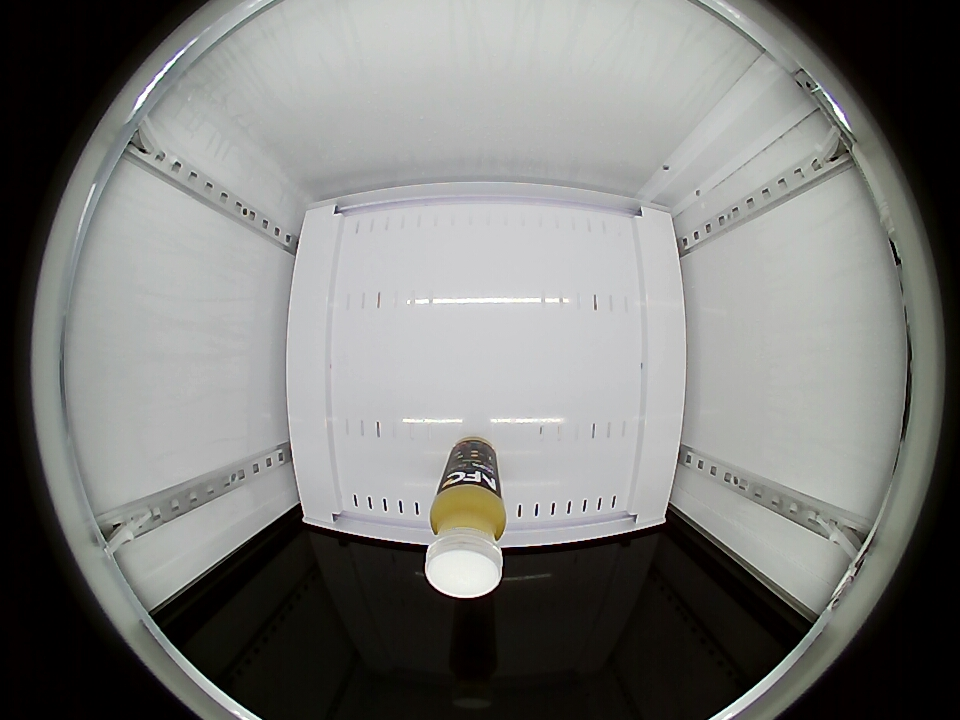nfc: (424, 484, 508, 598)
